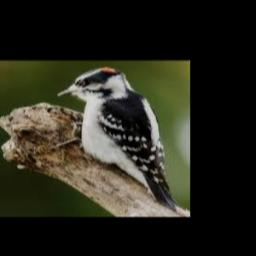Woodpecker: (48, 67, 185, 211)
